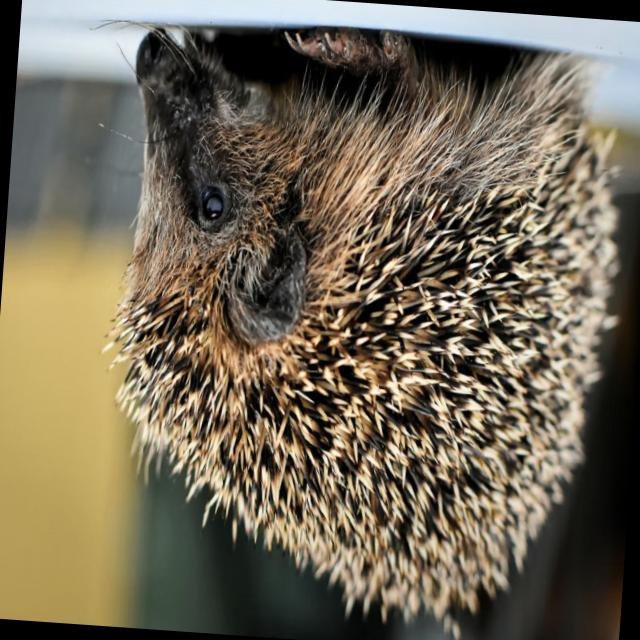Hedgehog: (78, 8, 638, 640)
